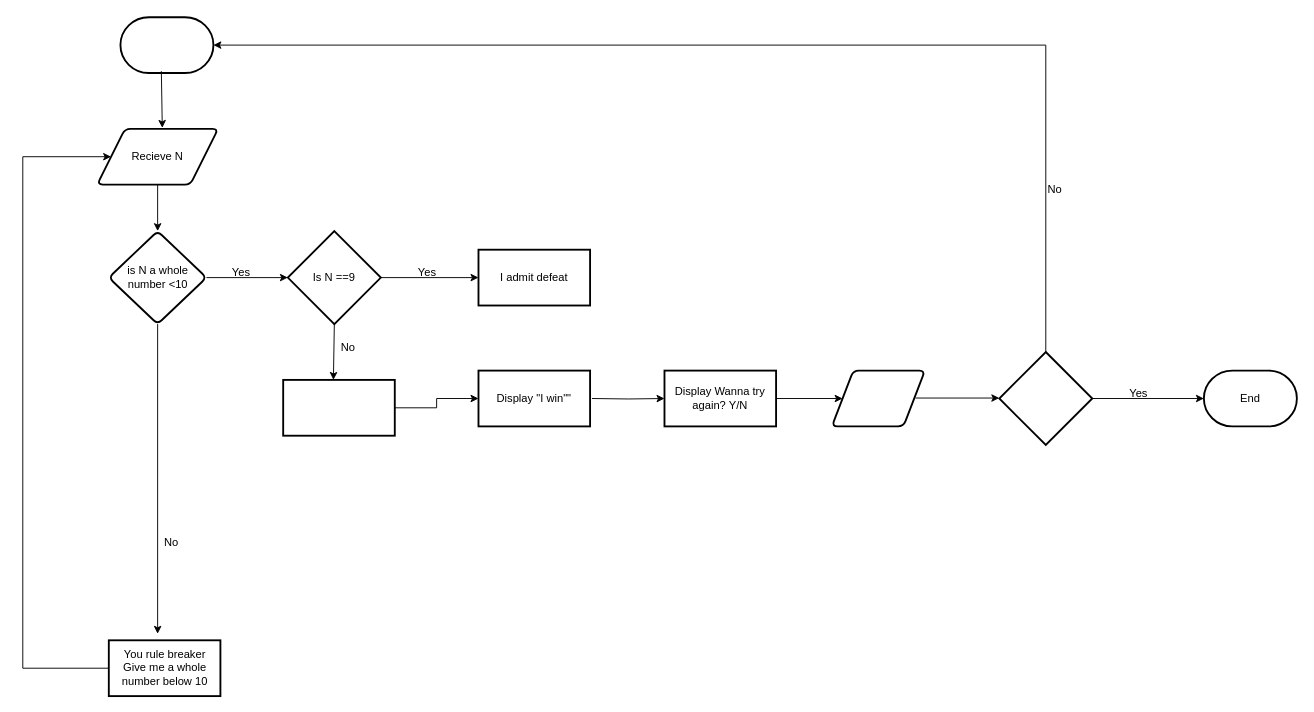
This 1314x712 diagram has some shape labels left out. Here are the shapes that lost their labels. From the top down, the box of each, then its label:
(119, 16, 214, 73): Please Input number N<10 N=0
(282, 379, 395, 436): N+1
(830, 369, 925, 427): Recieve Y or N
(998, 351, 1093, 445): is input N
